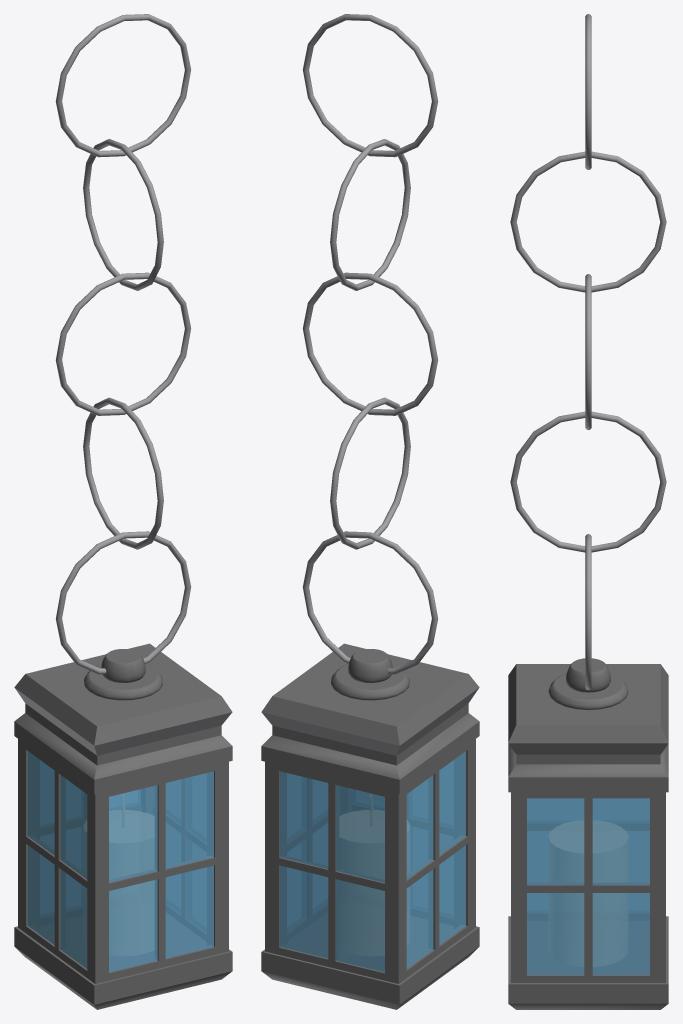
File: lantern2.glb
The picture shows the model from 3 angles, left to right: view 1: azimuth 30°, elevation 25°; view 2: azimuth 150°, elevation 25°; view 3: azimuth 270°, elevation 25°; orthographic projection.
Visible parts, largest first — view 1: Glass (×4), Top (×4), Torus Patch (×5), FrameSide (×3), Bottom (×2), Light, Frame (×5), FrameMiddle (×3), TopOne, Cylinder (×2); view 2: Glass (×4), Top (×4), Torus Patch (×5), FrameSide (×3), Bottom (×2), Light, Frame (×5), FrameMiddle (×3), TopOne, Cylinder (×2); view 3: Glass (×2), Top (×4), Torus Patch (×5), Light, Bottom (×2), FrameSide (×2), Frame (×4), Cylinder (×2), TopOne, FrameMiddle.
Boxes of the visible parts, box(x1,y1,x2,y2) form: Glass (×4): box(28, 751, 213, 972); Top (×4): box(14, 643, 232, 779); Torus Patch (×5): box(55, 14, 191, 674); FrameSide (×3): box(18, 739, 228, 983); Bottom (×2): box(14, 913, 232, 1009); Light: box(84, 810, 153, 955); Frame (×5): box(26, 765, 214, 980); FrameMiddle (×3): box(54, 771, 186, 961); TopOne: box(14, 721, 232, 794); Cylinder (×2): box(84, 649, 162, 700); Glass (×4): box(280, 751, 465, 972); Top (×4): box(261, 643, 479, 779); Torus Patch (×5): box(302, 14, 438, 674); FrameSide (×3): box(265, 739, 475, 983); Bottom (×2): box(261, 913, 479, 1009); Light: box(340, 810, 409, 955); Frame (×5): box(279, 765, 467, 980); FrameMiddle (×3): box(307, 771, 439, 961); TopOne: box(261, 721, 479, 794); Cylinder (×2): box(331, 649, 409, 700); Glass (×2): box(527, 798, 649, 974); Top (×4): box(508, 664, 668, 777); Torus Patch (×5): box(510, 14, 666, 689); Light: box(549, 821, 627, 966); Bottom (×2): box(508, 916, 668, 1009); FrameSide (×2): box(511, 792, 665, 982); Frame (×4): box(527, 792, 649, 982); Cylinder (×2): box(548, 658, 628, 710); TopOne: box(508, 777, 668, 792); FrameMiddle: box(584, 798, 592, 975).
Bounding box in the file's own units: 0.15 × 0.9876 × 0.15.
